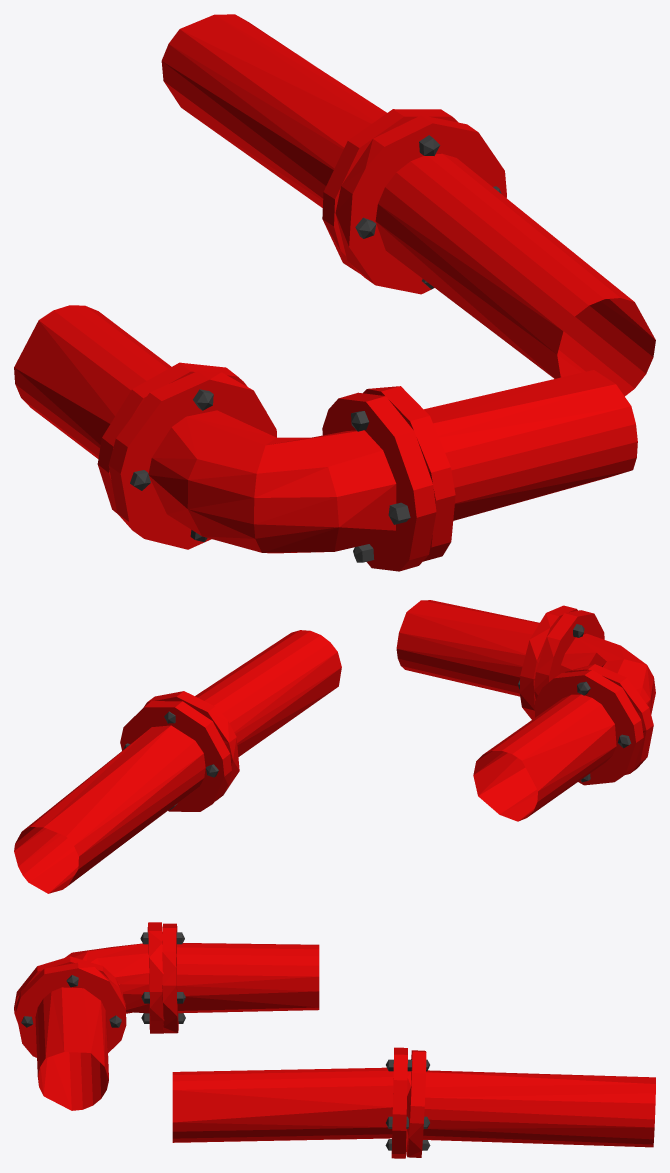
Rendered from geo_pipe.fbx.
3 views of the same model, one above another, from view 1: azimuth 30°, elevation 25°; view 2: azimuth 150°, elevation 25°; view 3: azimuth 270°, elevation 25° (orthographic). The views are drawn at different scales.
Parts seen in each view (by area): view 1: geo_pipe_corner, geo_pipe; view 2: geo_pipe_corner, geo_pipe; view 3: geo_pipe, geo_pipe_corner.
Part boxes in pixels (x1,y1,x2,y2): geo_pipe_corner: (14,305,637,571); geo_pipe: (161,14,655,396); geo_pipe_corner: (396,600,655,821); geo_pipe: (14,630,341,893); geo_pipe: (172,1047,655,1158); geo_pipe_corner: (14,922,319,1110).
Size of the model in its own units: 2.94 by 0.807 by 4.58.
